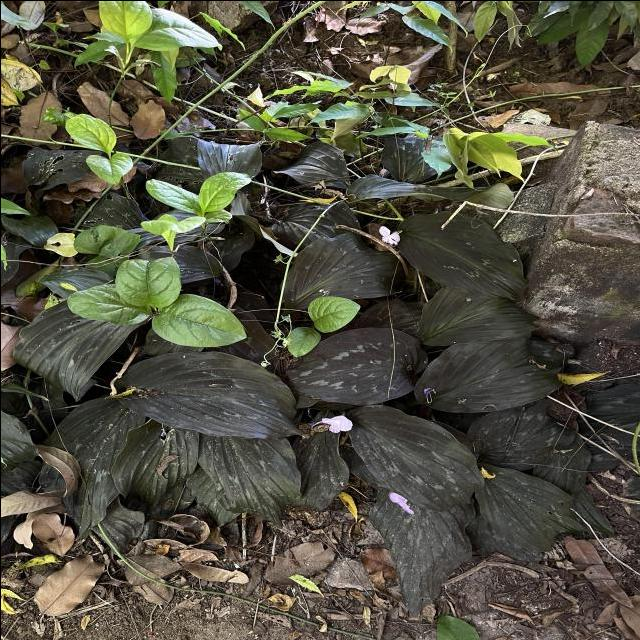Kaempferia galanga linn: (110, 348, 310, 439), (342, 402, 485, 512), (392, 208, 529, 302), (412, 332, 567, 413), (280, 324, 430, 406), (413, 282, 544, 346)
